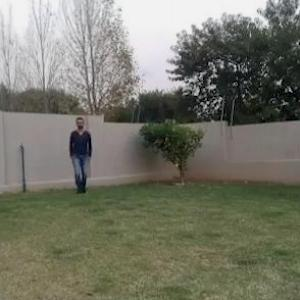follow: (71, 118, 91, 197)
